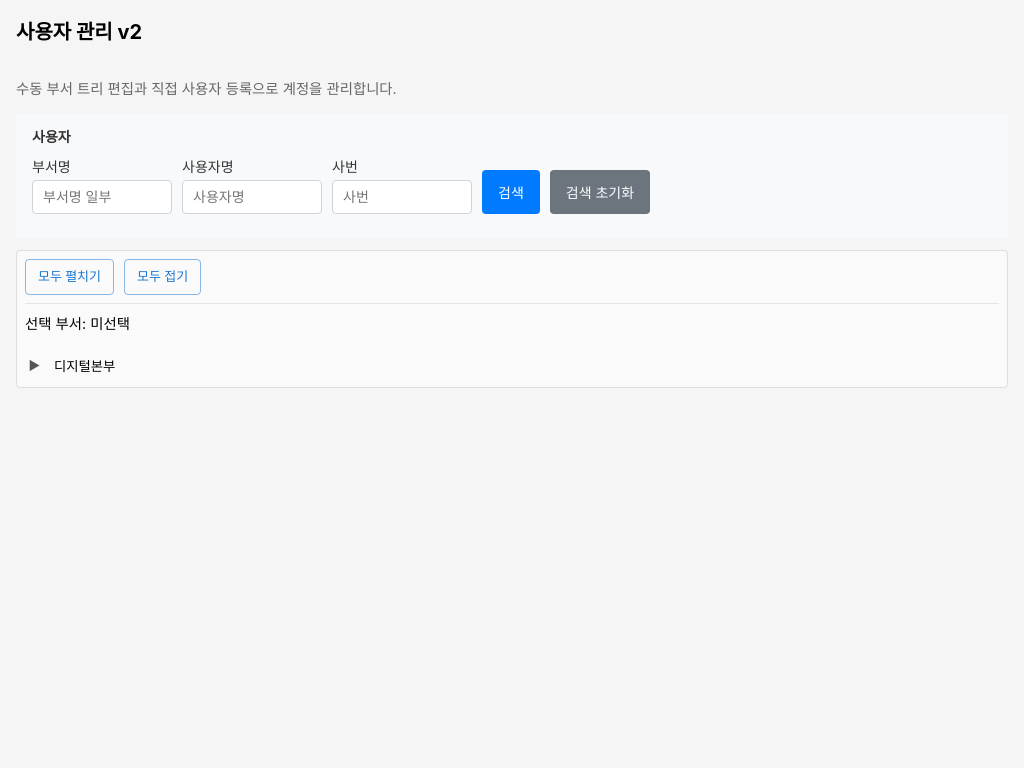
Scenario: UserManagement › req 20260408 grid search: TC-03 department name filter › applies 부서명 substring and expands matching branch
This screenshot has width=1024, height=768.
expect the button "디지털본부" is shown: met, box [47, 353, 122, 379]
Type "플랫" into the field named "부서명 필터" at x=102, y=197, box [32, 180, 172, 214]
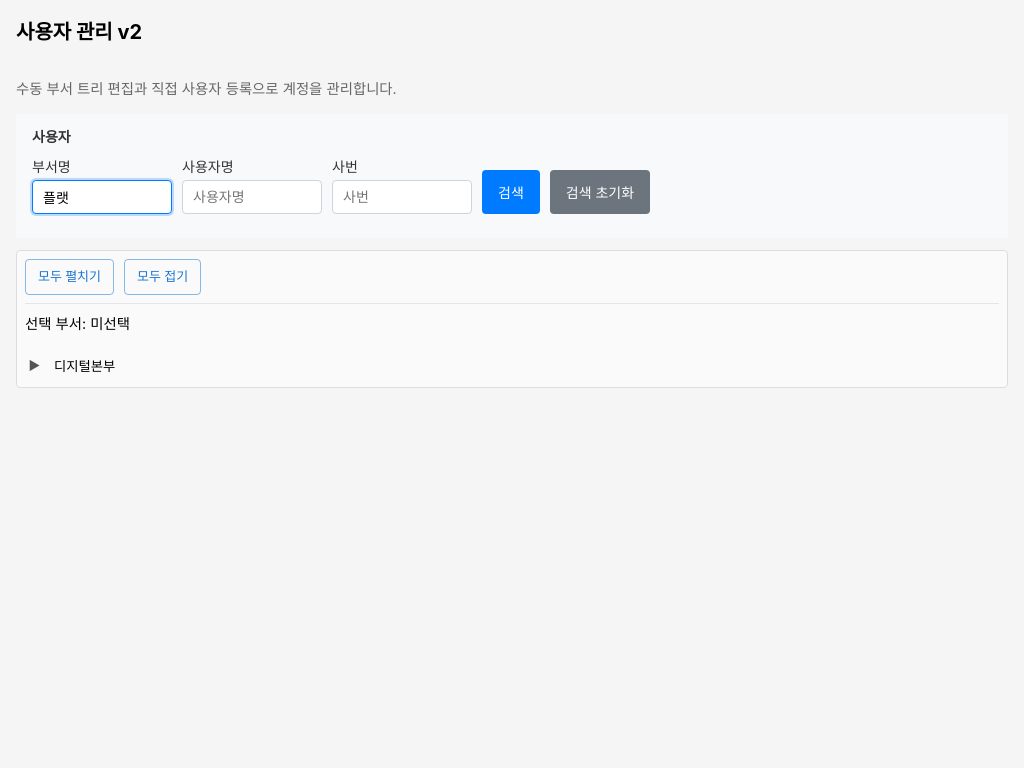
Click the button "검색" at x=511, y=192, box [482, 170, 540, 214]
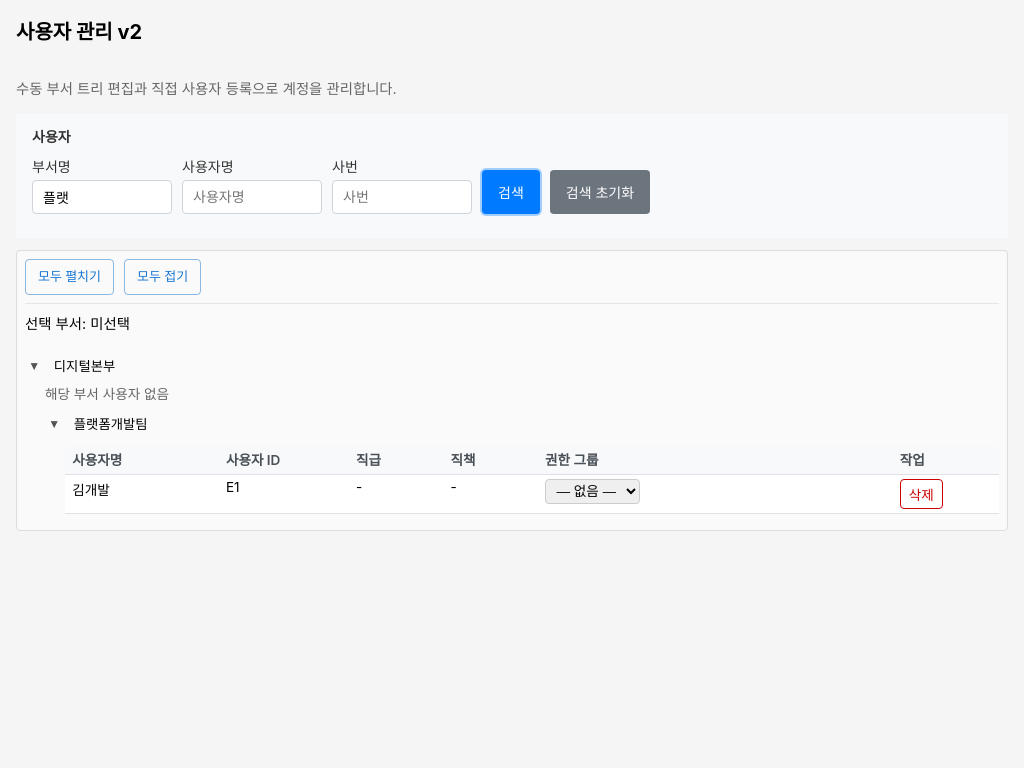
expect the button "플랫폼개발팀" is shown: met, box [67, 411, 154, 437]
expect the text "김개발" is shown: met, box [65, 474, 219, 514]
